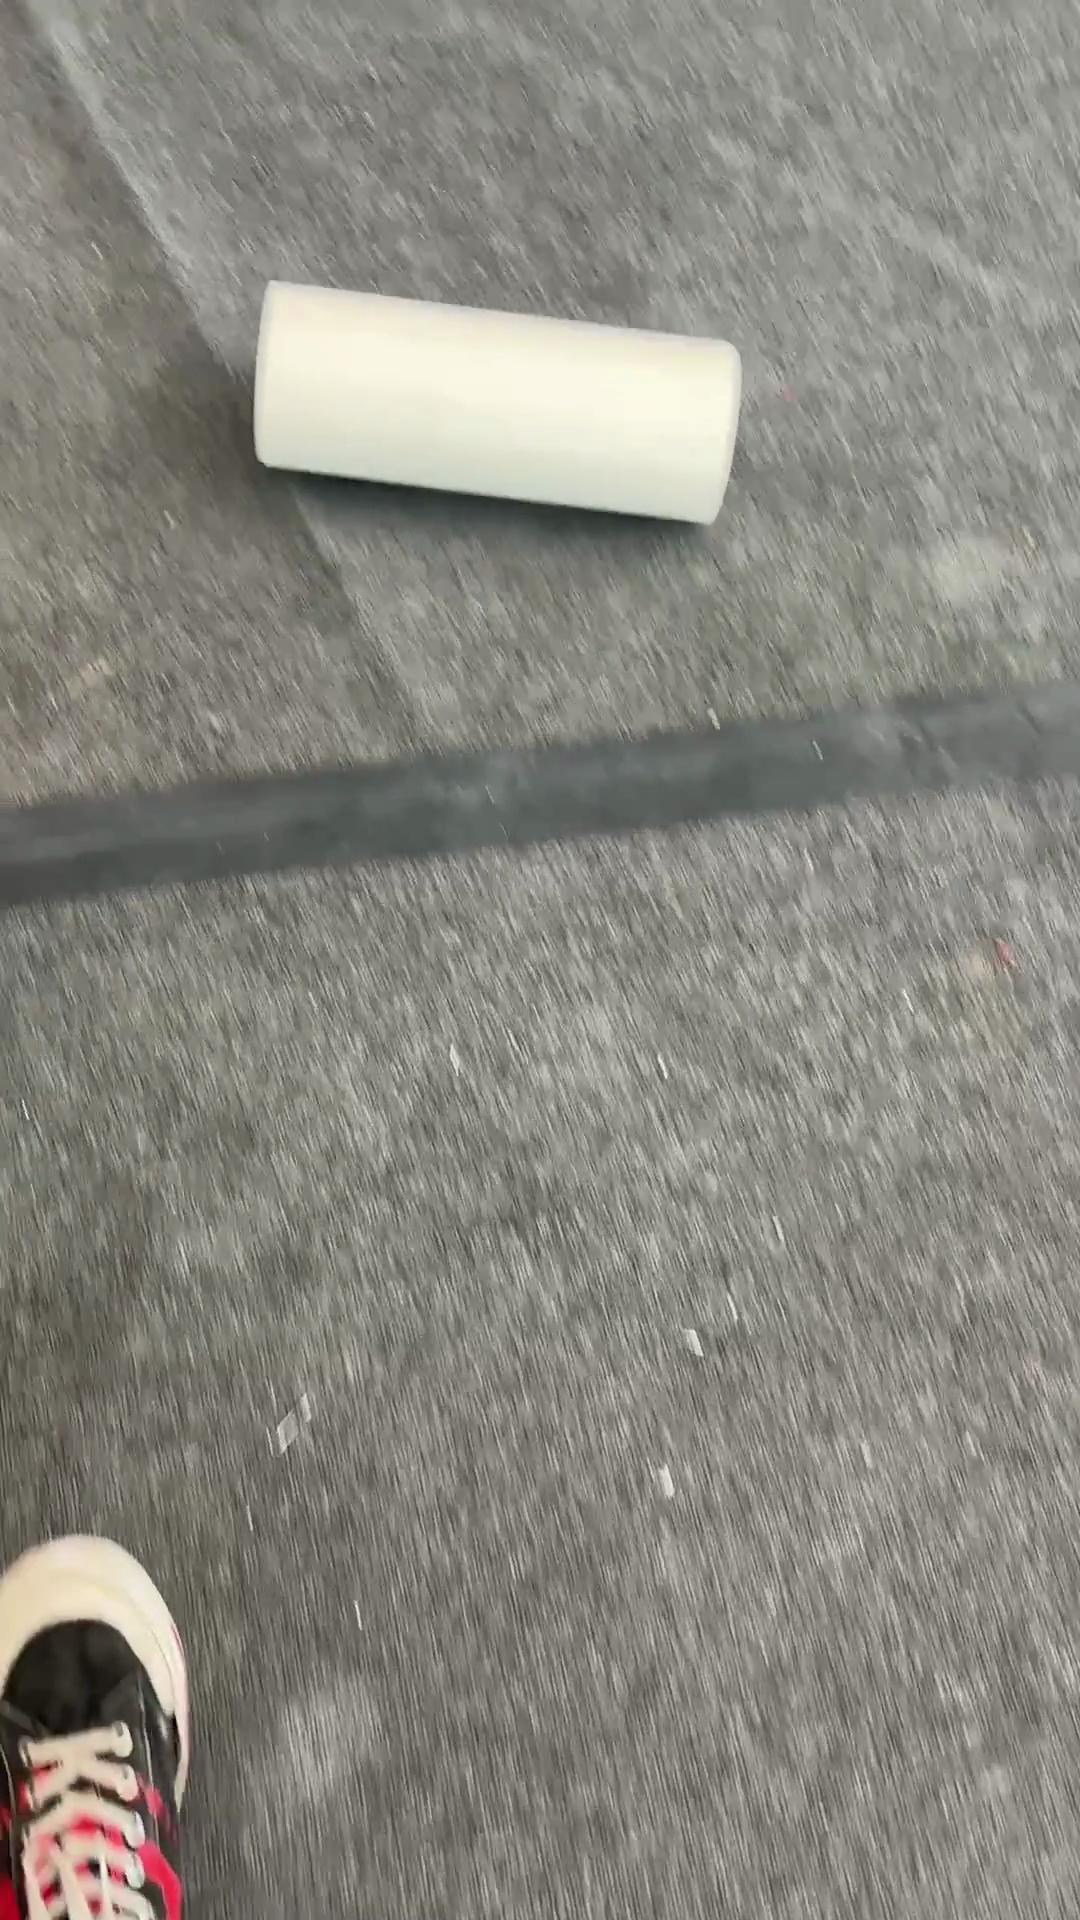CORAL: (249, 275, 743, 526)
